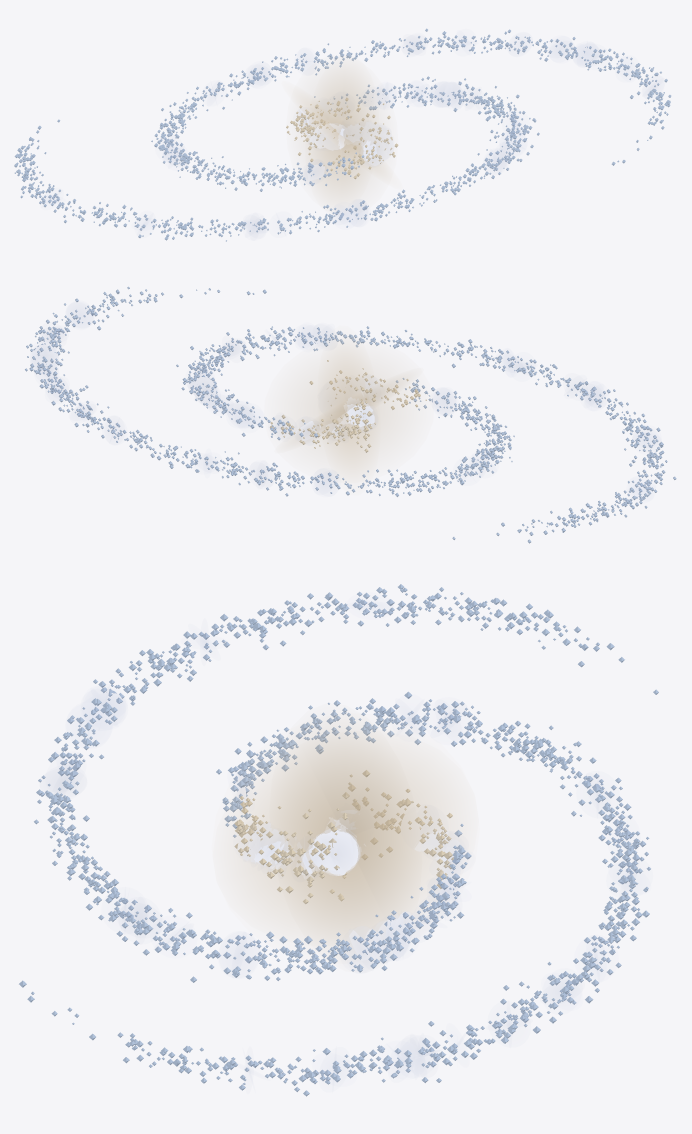
The picture shows the model from 3 angles, top to bottom: view 1: azimuth 30°, elevation 25°; view 2: azimuth 150°, elevation 25°; view 3: azimuth 270°, elevation 25°; orthographic projection. The views are drawn at different scales.
Size of the model in its own units: 7.26 by 1.78 by 4.03.
